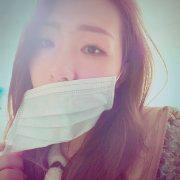WRONG: (16, 14, 125, 123)
